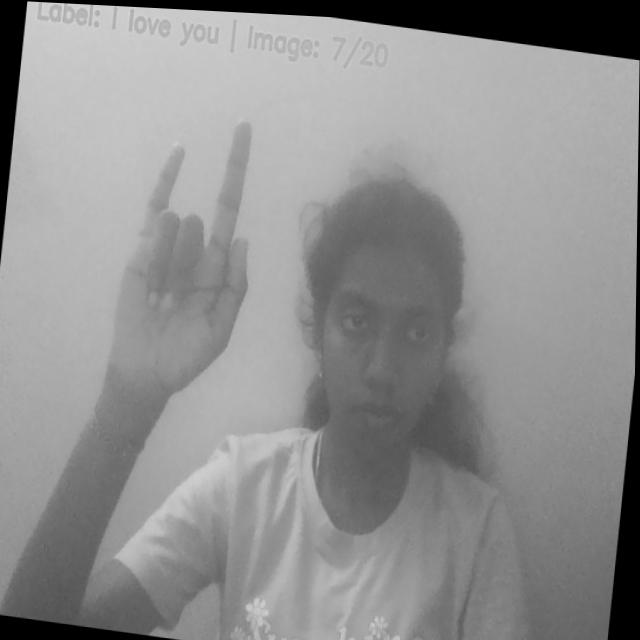I love you: (101, 99, 269, 409)
